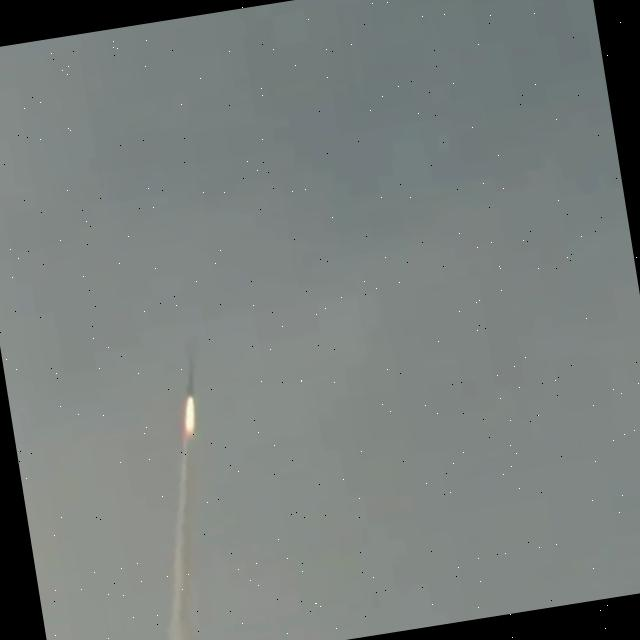smoke_trail_with_rocket: (167, 355, 198, 640)
